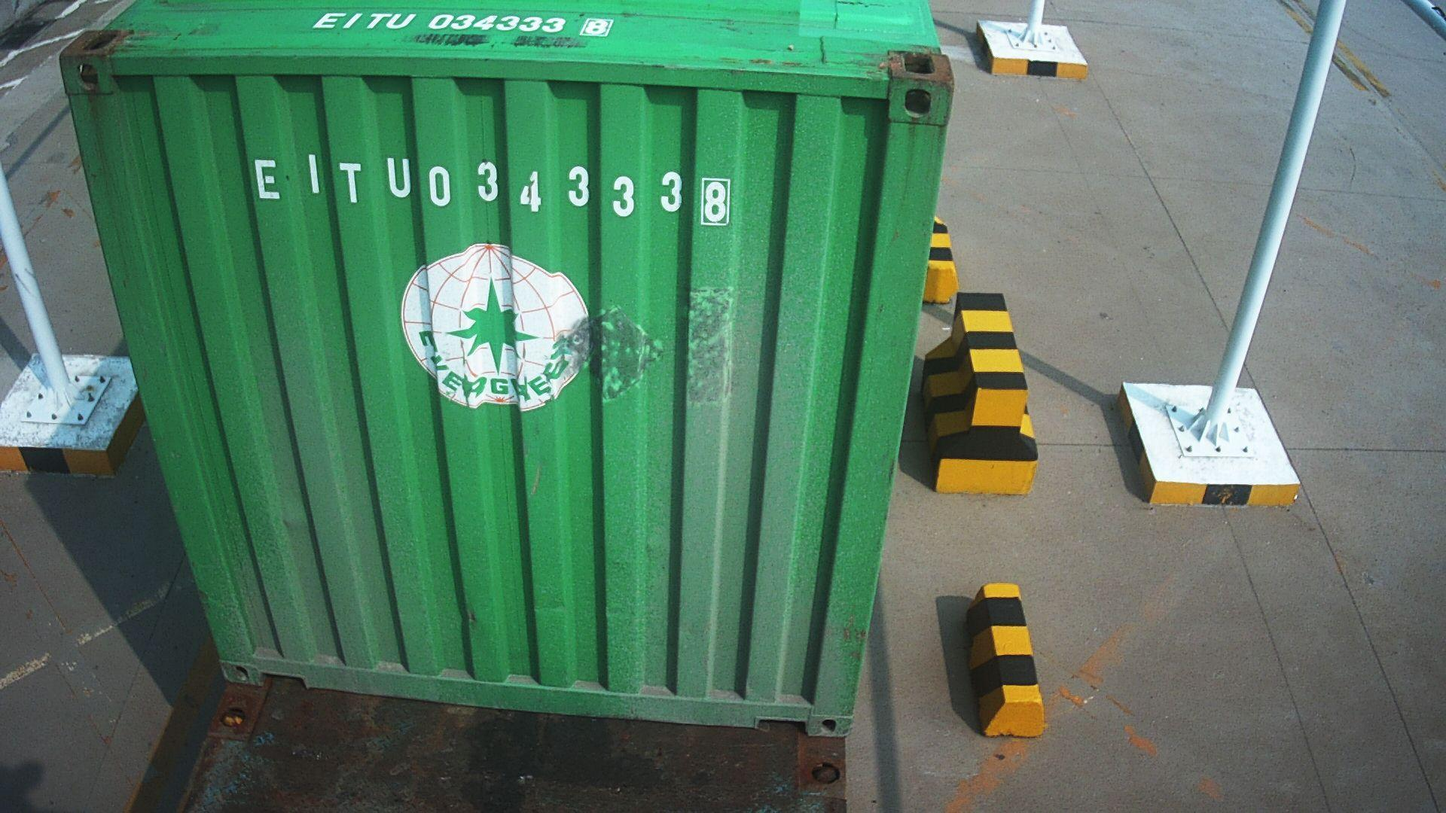container-numbers: (244, 149, 741, 230), (306, 8, 621, 42)
